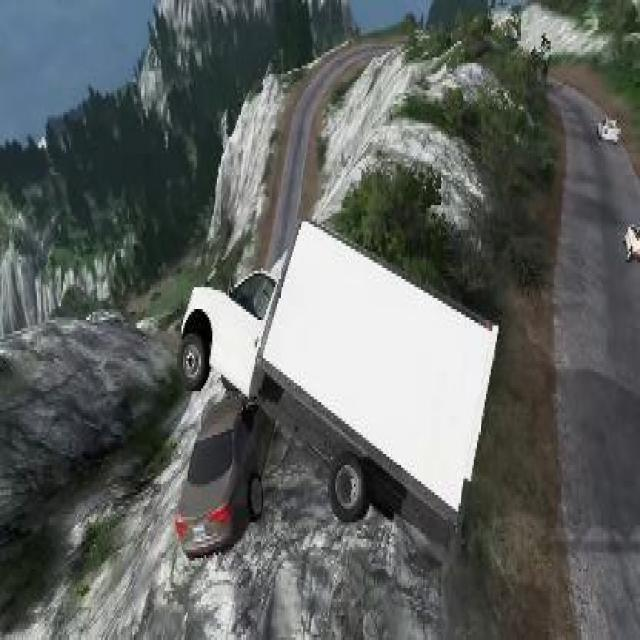accident: (169, 202, 506, 577)
